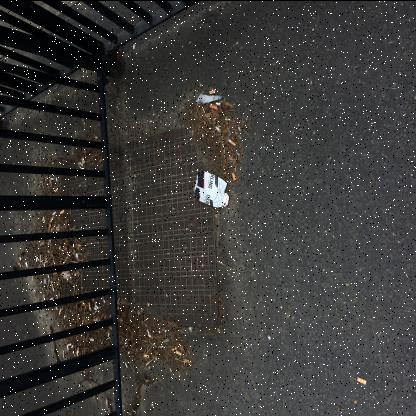metal: (194, 168, 230, 208)
